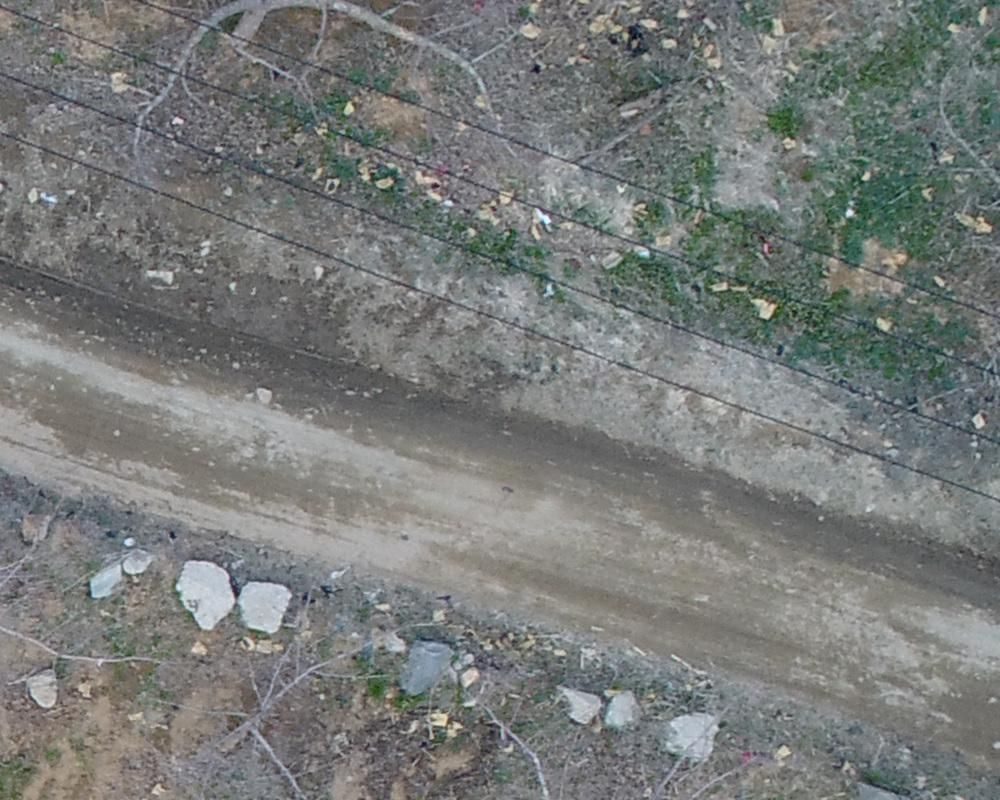apple: (155, 610, 410, 790), (10, 485, 166, 707)
